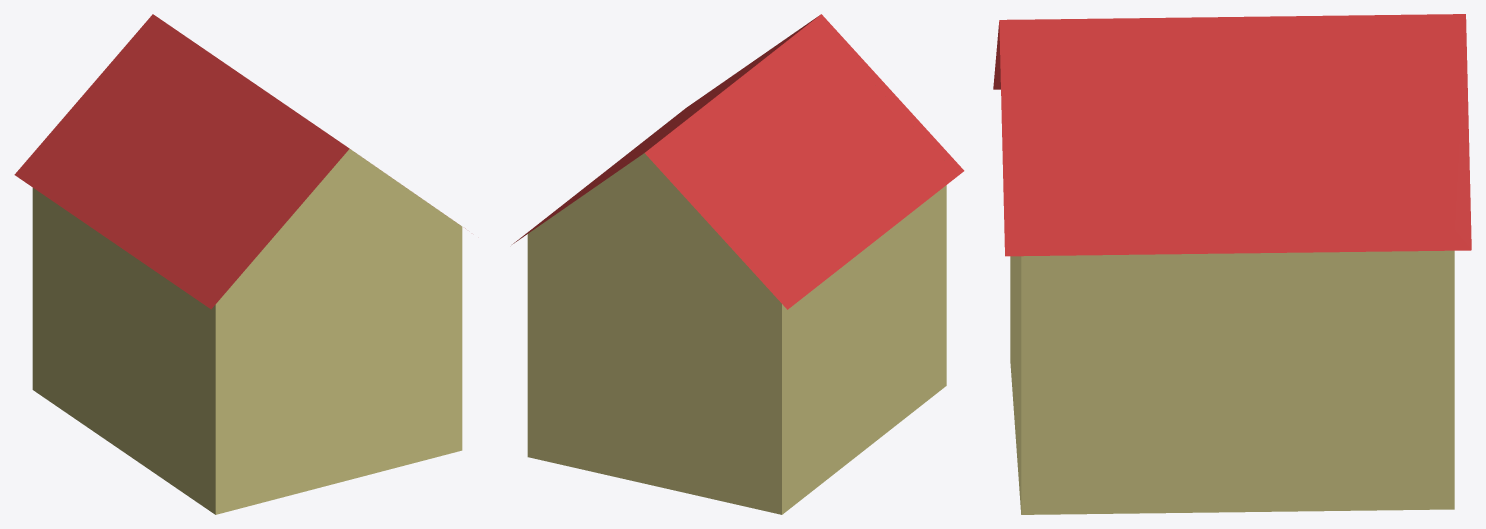
3 renders of one model, left to right at view 1: azimuth 30°, elevation 25°; view 2: azimuth 150°, elevation 25°; view 3: azimuth 270°, elevation 25°, orthographic. The views are drawn at different scales.
Size of the model in its own units: 12.25 by 14.35 by 13.94.
